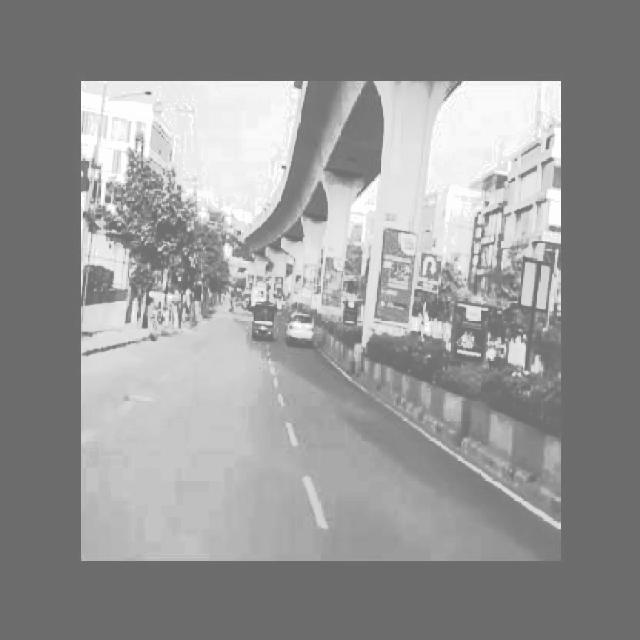Car: (288, 304, 318, 348)
